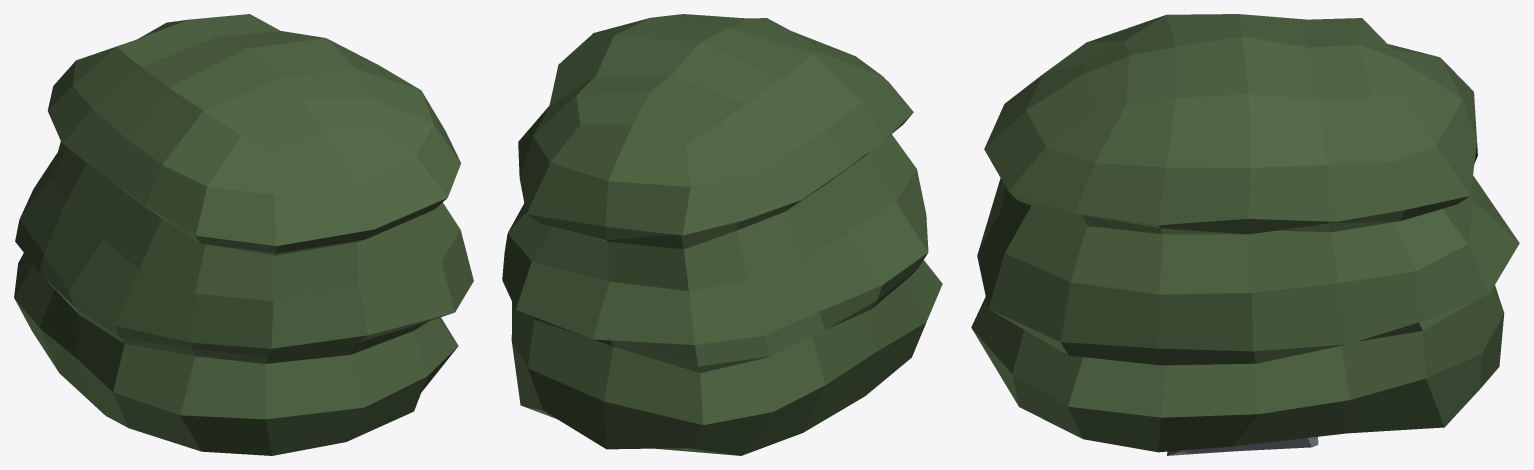
Rendered from nature.glb.
3 views of the same model, side by side, from view 1: azimuth 30°, elevation 25°; view 2: azimuth 150°, elevation 25°; view 3: azimuth 270°, elevation 25° (orthographic). The views are drawn at different scales.
Parts seen in each view (by area): view 1: Bush_1; view 2: Bush_1; view 3: Bush_1, Rock_Moss_1.
Boxes of the visible parts, x1,y1,x2,y2 form: Bush_1: (14, 14, 473, 455); Bush_1: (502, 14, 942, 455); Bush_1: (971, 14, 1519, 452); Rock_Moss_1: (1167, 437, 1318, 455).
Size of the model in its own units: 1.33 by 1.38 by 1.69.
